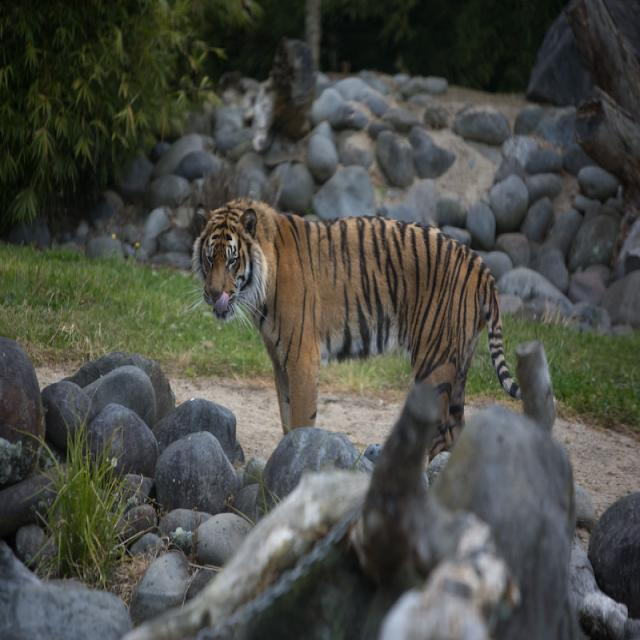Tiger: (194, 199, 516, 447)
